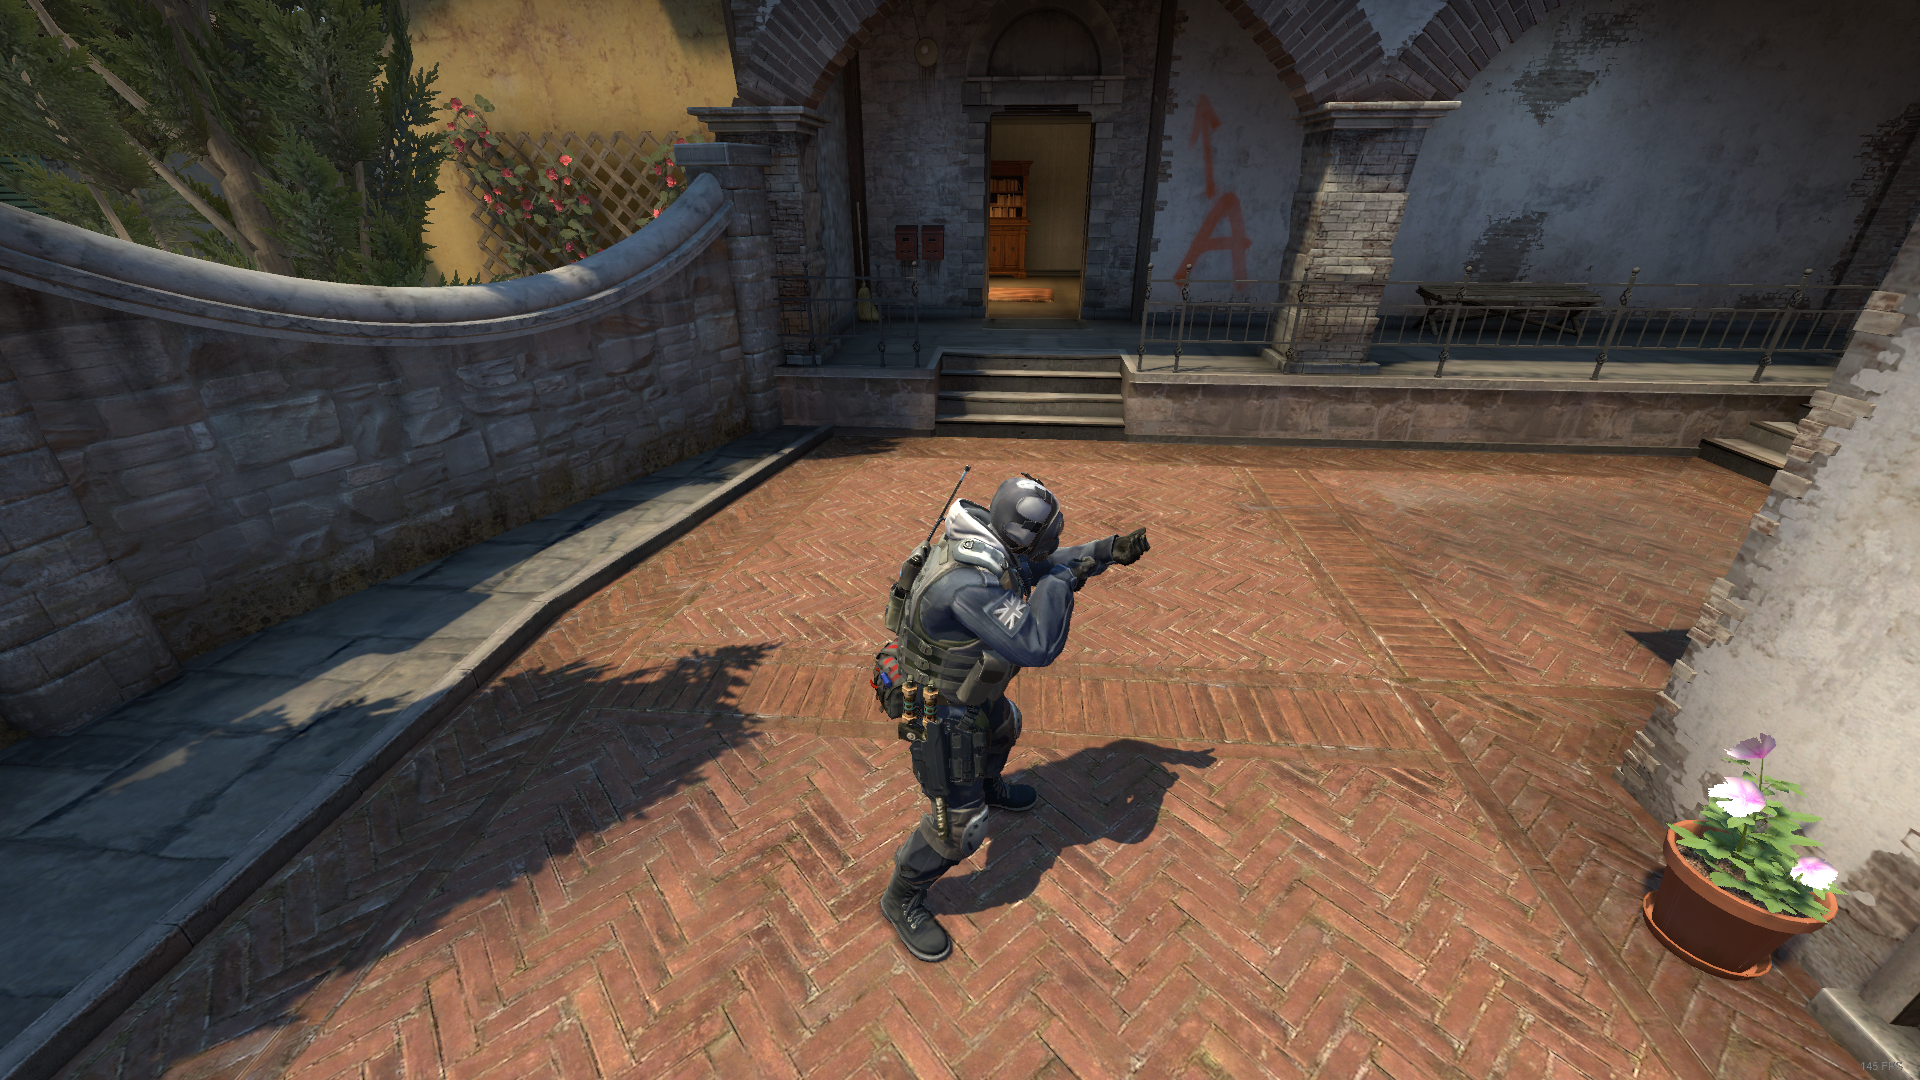ct: (870, 472, 1151, 963)
